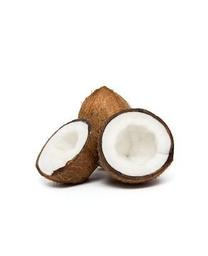coconut: (99, 107, 177, 186), (76, 84, 130, 166), (35, 117, 97, 188)
